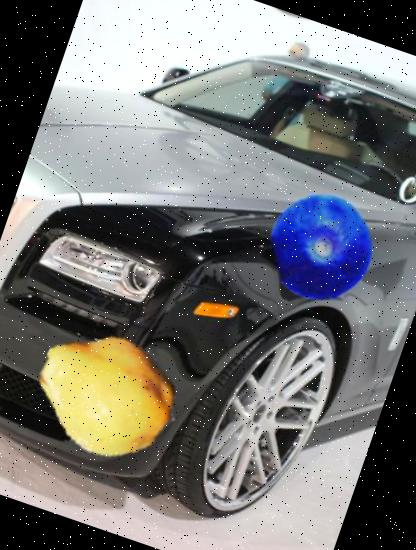Huckleberry: (256, 178, 390, 314)
Quince: (15, 302, 200, 488)
